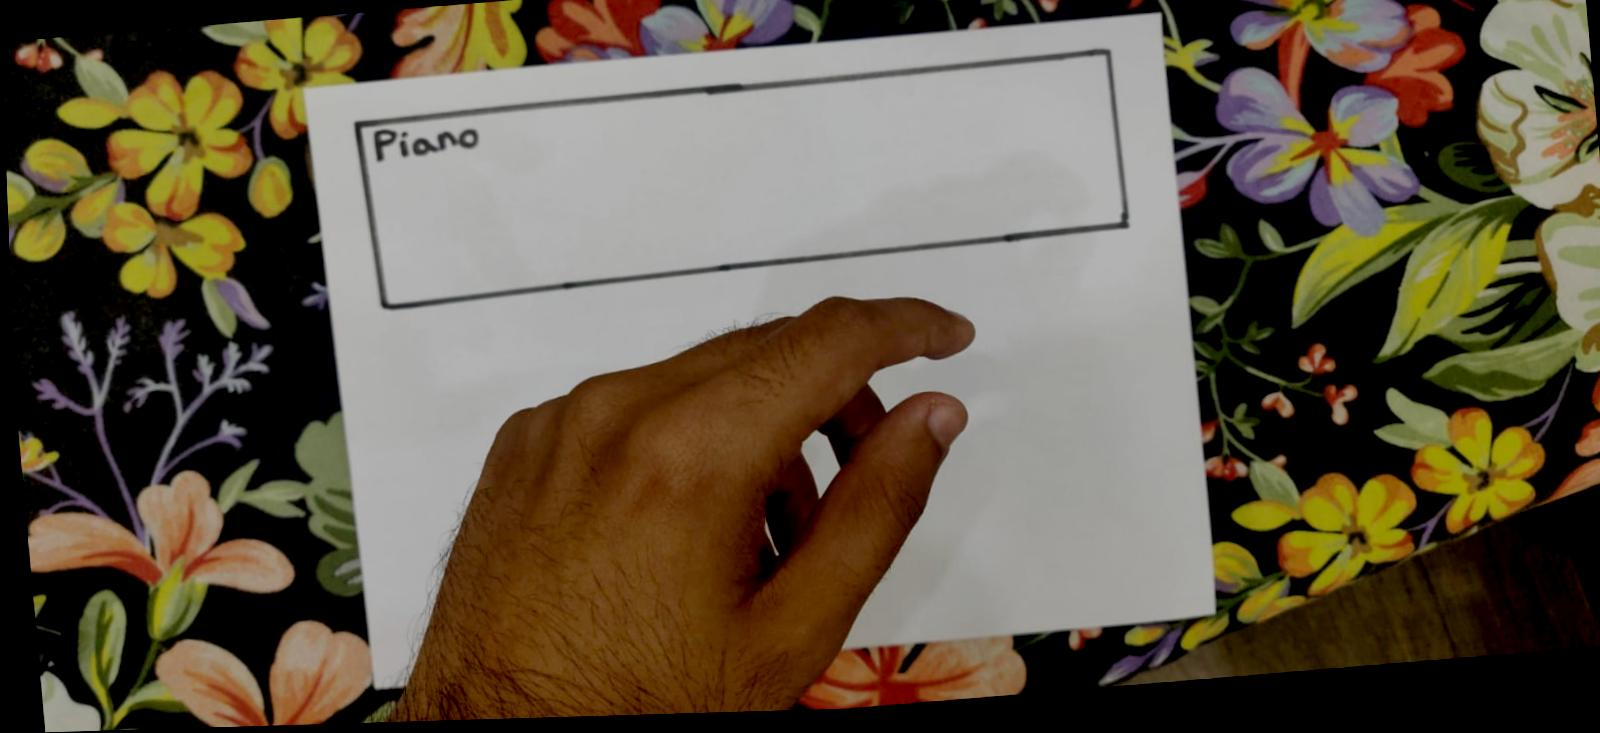paper-piano: (355, 69, 1129, 291)
